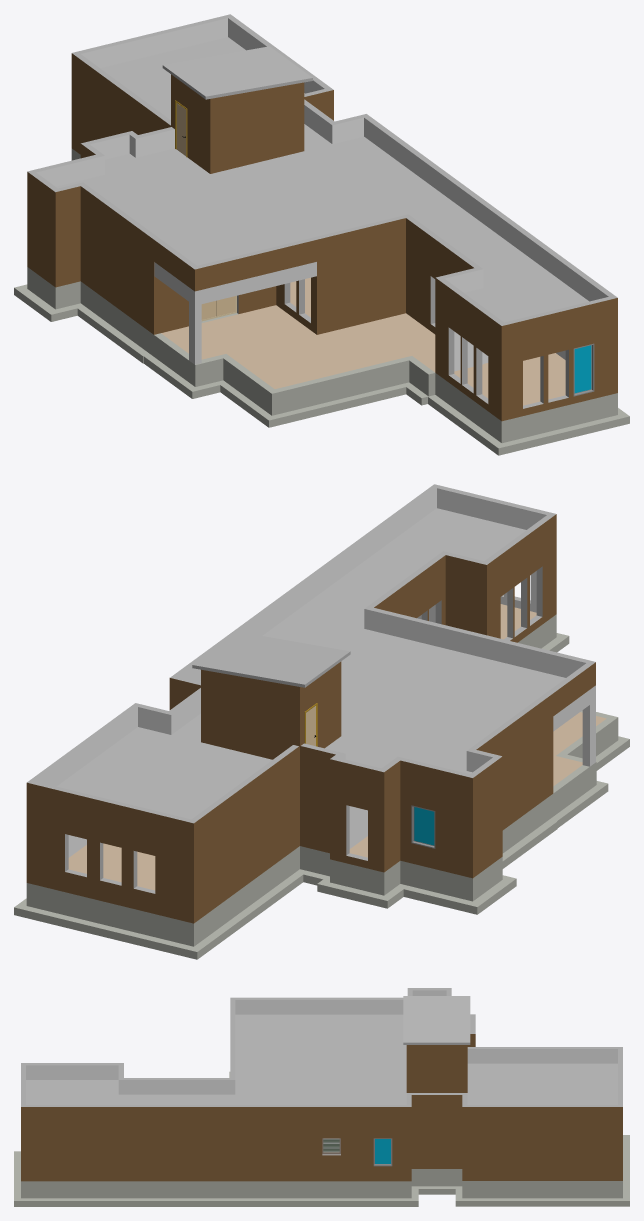
File: House Model.glb
3 views of the same model, one above another, from view 1: azimuth 30°, elevation 25°; view 2: azimuth 150°, elevation 25°; view 3: azimuth 270°, elevation 25° (orthographic). The views are drawn at different scales.
Parts seen in each view (by area): view 1: Walnut (×19), Basic Roof (×2), Birch, Basic Wall (×9), Gypsum Wall Board (×7), Wall Foundation (×5), Default Wall (×4), Concrete - Rectangular Beam, Concrete Rectangular, Glass; view 2: Walnut (×22), Basic Roof (×2), Gypsum Wall Board (×6), Basic Wall (×9), Wall Foundation (×7), Default Wall (×8), Birch, Concrete Rectangular, Glass; view 3: Walnut (×7), Basic Roof (×2), Basic Wall (×3), Gypsum Wall Board (×4), Wall Foundation (×4), Default Wall (×3), Glass.
Boxes of the visible parts, <box> form: Walnut (×19): <box>27,56,612,421</box>; Basic Roof (×2): <box>56,37,588,322</box>; Birch: <box>161,277,565,405</box>; Basic Wall (×9): <box>52,281,612,443</box>; Gypsum Wall Board (×7): <box>36,18,608,301</box>; Wall Foundation (×5): <box>73,303,608,455</box>; Default Wall (×4): <box>81,114,617,403</box>; Concrete - Rectangular Beam: <box>201,262,316,303</box>; Concrete Rectangular: <box>189,287,201,364</box>; Glass: <box>574,345,591,393</box>; Walnut (×22): <box>26,514,595,923</box>; Basic Roof (×2): <box>57,508,565,819</box>; Gypsum Wall Board (×6): <box>36,488,585,848</box>; Basic Wall (×9): <box>32,718,613,946</box>; Wall Foundation (×7): <box>36,781,608,959</box>; Default Wall (×8): <box>27,484,595,893</box>; Birch: <box>68,604,606,890</box>; Concrete Rectangular: <box>582,685,595,766</box>; Glass: <box>414,807,434,845</box>; Walnut (×7): <box>21,1045,622,1181</box>; Basic Roof (×2): <box>26,996,617,1104</box>; Basic Wall (×3): <box>21,1169,622,1198</box>; Gypsum Wall Board (×4): <box>26,1000,617,1094</box>; Wall Foundation (×4): <box>14,1143,629,1206</box>; Default Wall (×3): <box>21,997,411,1106</box>; Glass: <box>375,1139,390,1163</box>.
Size of the model in its own units: 14.37 by 7.75 by 29.88.
